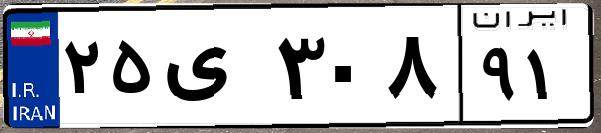0: (330, 28, 385, 110)
1: (525, 38, 570, 115)
2: (57, 26, 110, 100)
3: (270, 28, 330, 110)
5: (110, 28, 158, 98)
8: (385, 28, 445, 110)
9: (475, 38, 525, 113)
ی: (158, 20, 270, 120)
